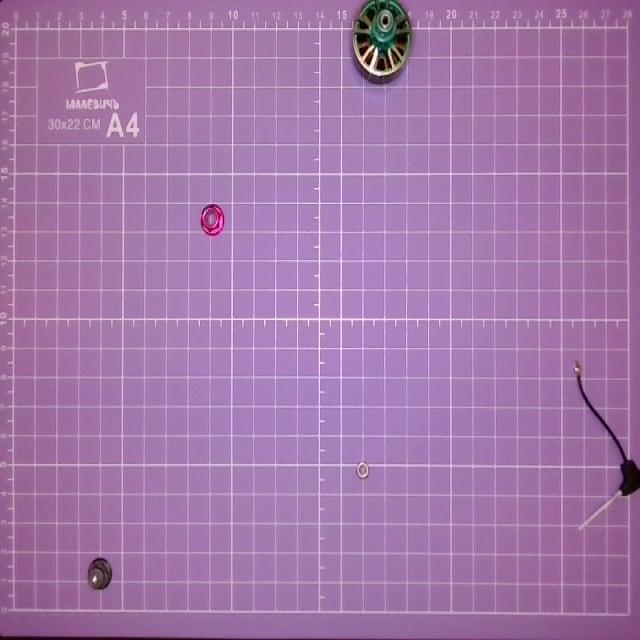antenna: (567, 355, 640, 528)
motor: (352, 0, 413, 84)
screw_M3: (356, 456, 371, 481)
screw_M5: (86, 558, 116, 597), (200, 203, 229, 239)
